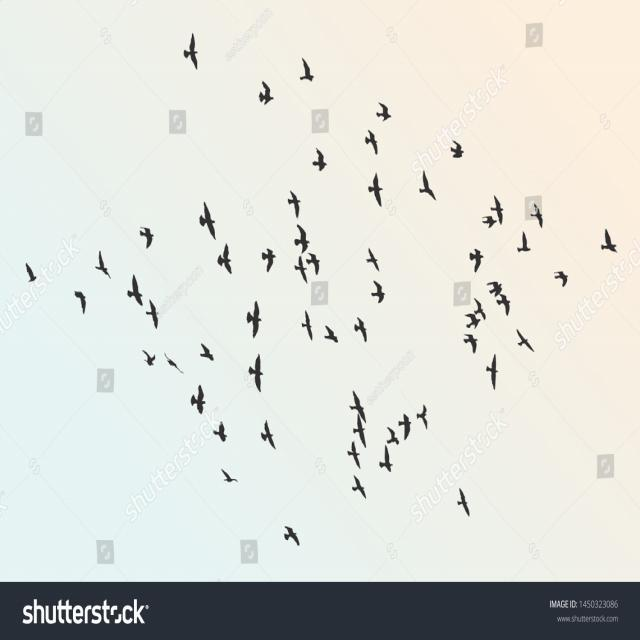bird: (455, 271, 506, 352), (170, 13, 210, 76), (106, 260, 150, 311), (292, 46, 330, 99), (378, 412, 413, 466), (478, 348, 508, 406), (508, 222, 546, 266), (343, 465, 378, 512), (187, 194, 221, 242), (252, 70, 280, 124), (451, 474, 479, 528), (69, 278, 100, 326), (16, 247, 46, 296), (512, 315, 537, 373), (236, 292, 266, 340), (592, 220, 626, 262), (300, 134, 332, 178), (373, 445, 398, 500), (210, 248, 244, 288), (529, 182, 556, 232), (483, 186, 511, 234), (339, 380, 371, 422), (442, 130, 473, 172), (349, 306, 376, 354), (132, 212, 160, 258), (292, 304, 314, 362), (254, 231, 282, 276), (247, 344, 269, 401), (366, 280, 399, 318), (369, 88, 396, 134), (338, 437, 369, 477), (280, 516, 308, 560), (458, 240, 489, 279), (288, 245, 312, 294), (362, 166, 390, 206), (276, 185, 306, 222), (210, 460, 240, 497), (412, 387, 435, 432), (210, 408, 234, 451), (289, 221, 321, 253), (138, 302, 166, 338), (412, 163, 440, 199), (358, 126, 384, 163), (342, 422, 382, 446), (318, 316, 344, 352), (358, 244, 384, 279), (90, 248, 118, 280), (195, 336, 218, 372), (132, 347, 157, 379), (188, 380, 204, 420), (310, 248, 328, 282), (256, 426, 274, 458), (552, 262, 569, 291), (164, 350, 182, 374)
